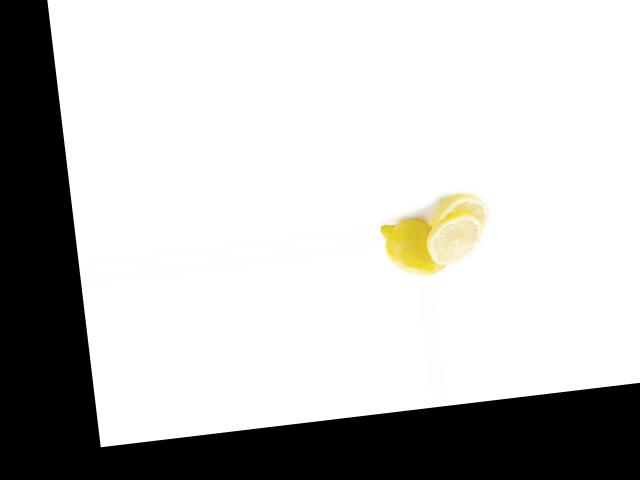lemon: (372, 210, 451, 282)
